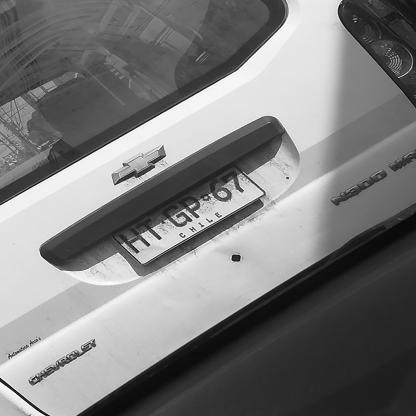Patente: (110, 162, 269, 268)
